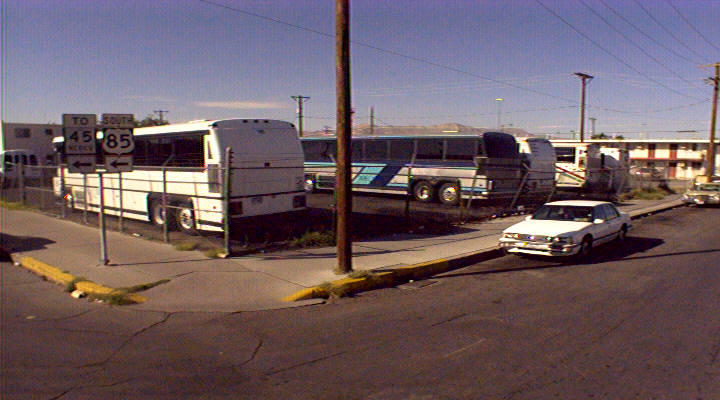Ramp: (102, 253, 340, 318)
